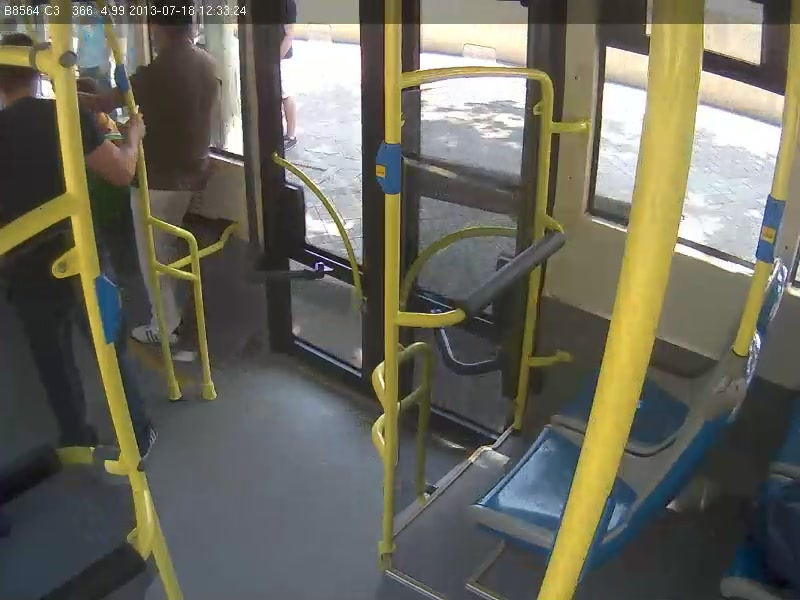Head: (0, 30, 48, 112), (143, 2, 211, 53)
